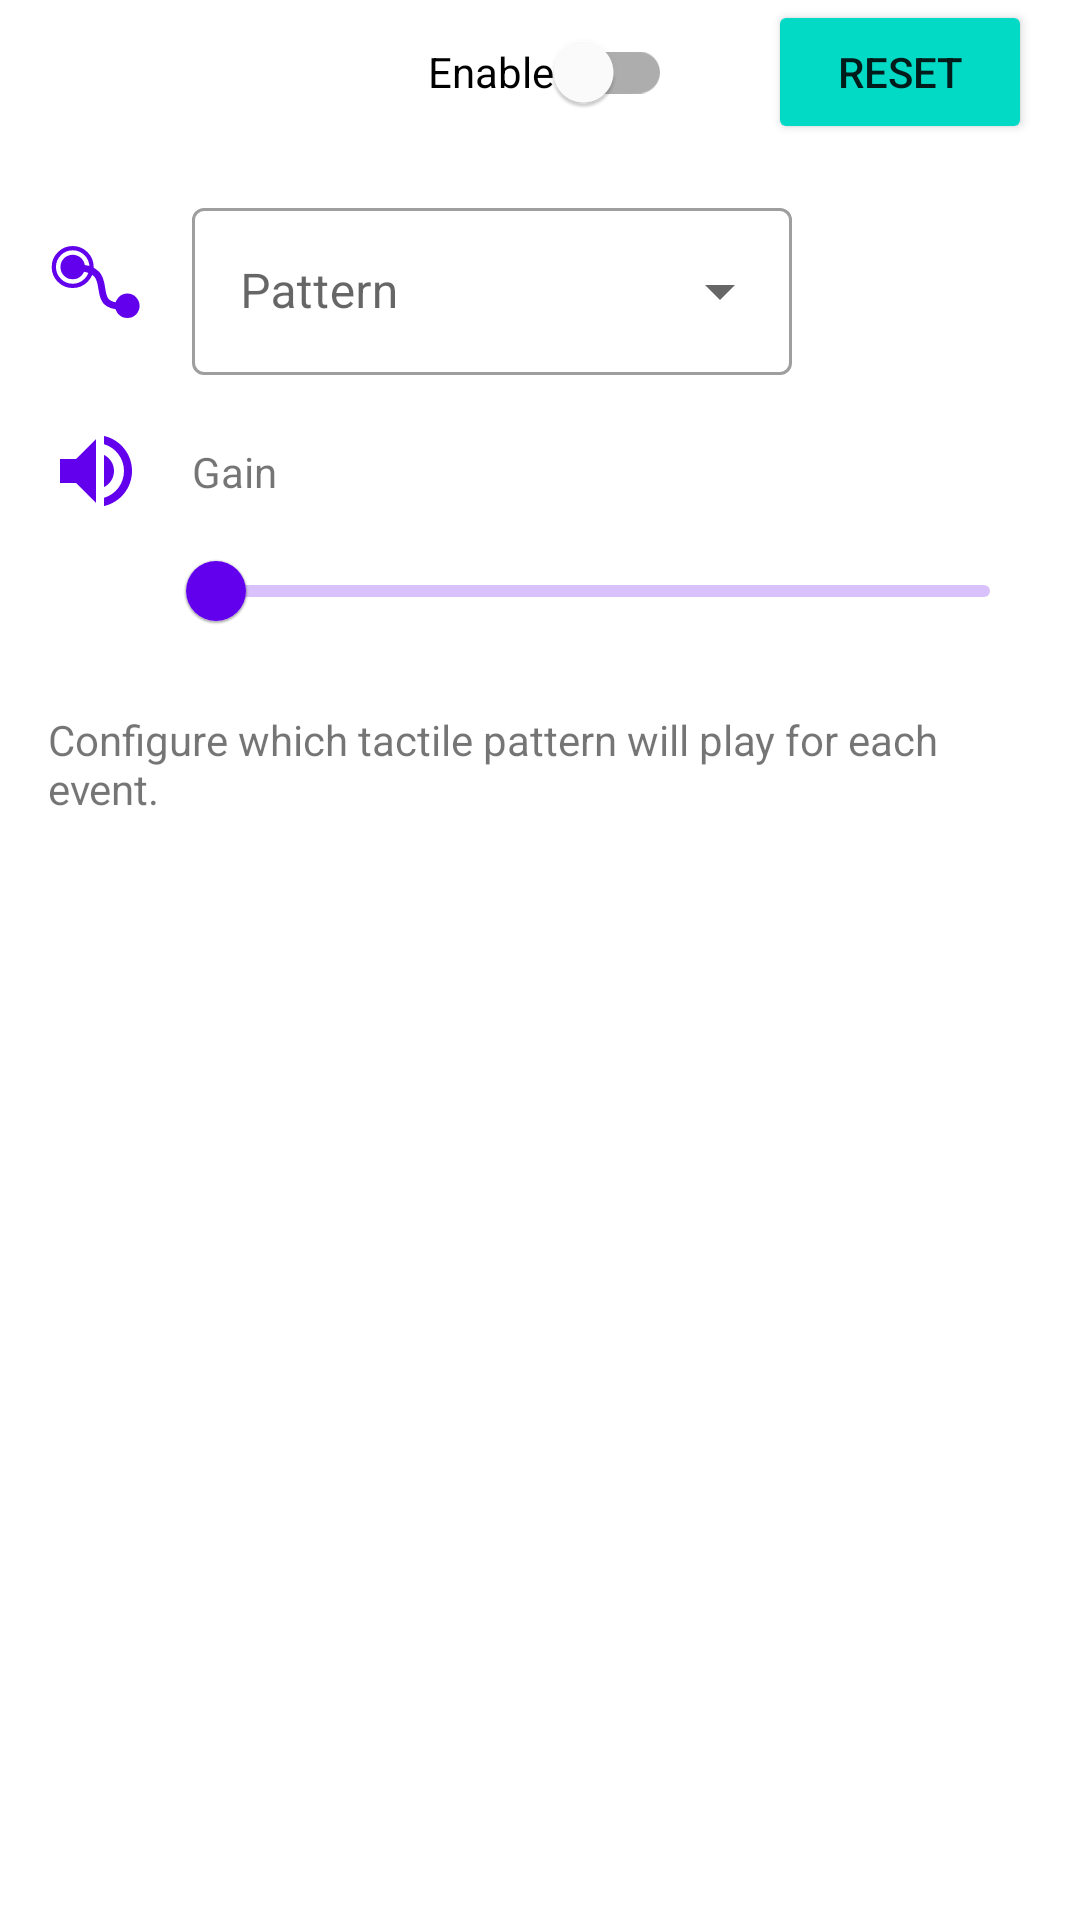

Where icons sit on this 1080×1920 app screen, as rect(x1, y1, x2, y2):
channel map source: rect(51, 246, 140, 318)
volume: rect(60, 436, 132, 506)
